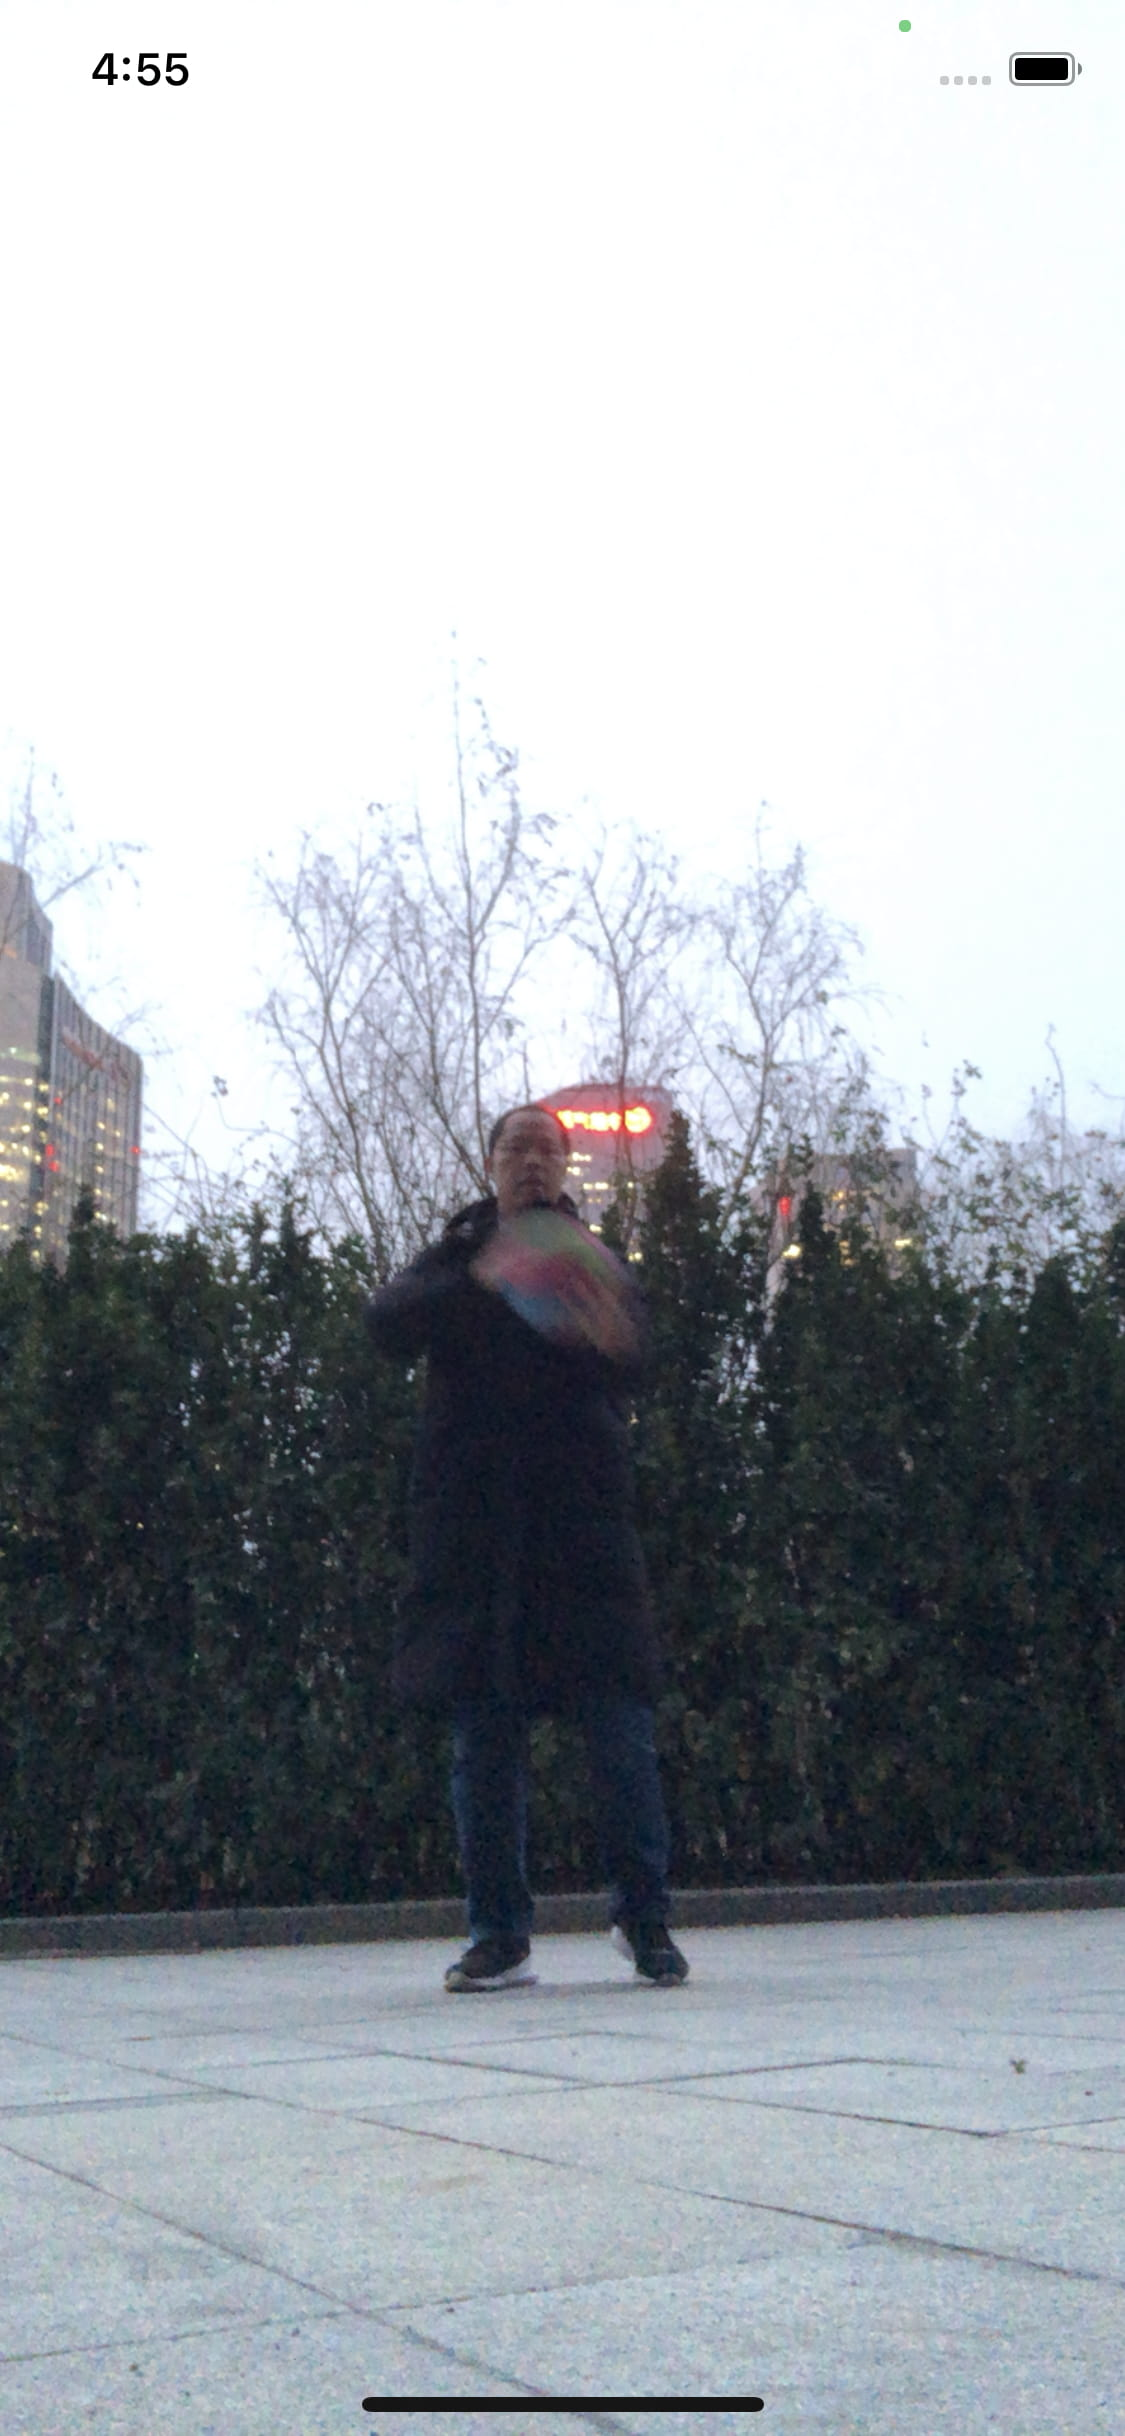ball: (489, 1215, 628, 1338)
